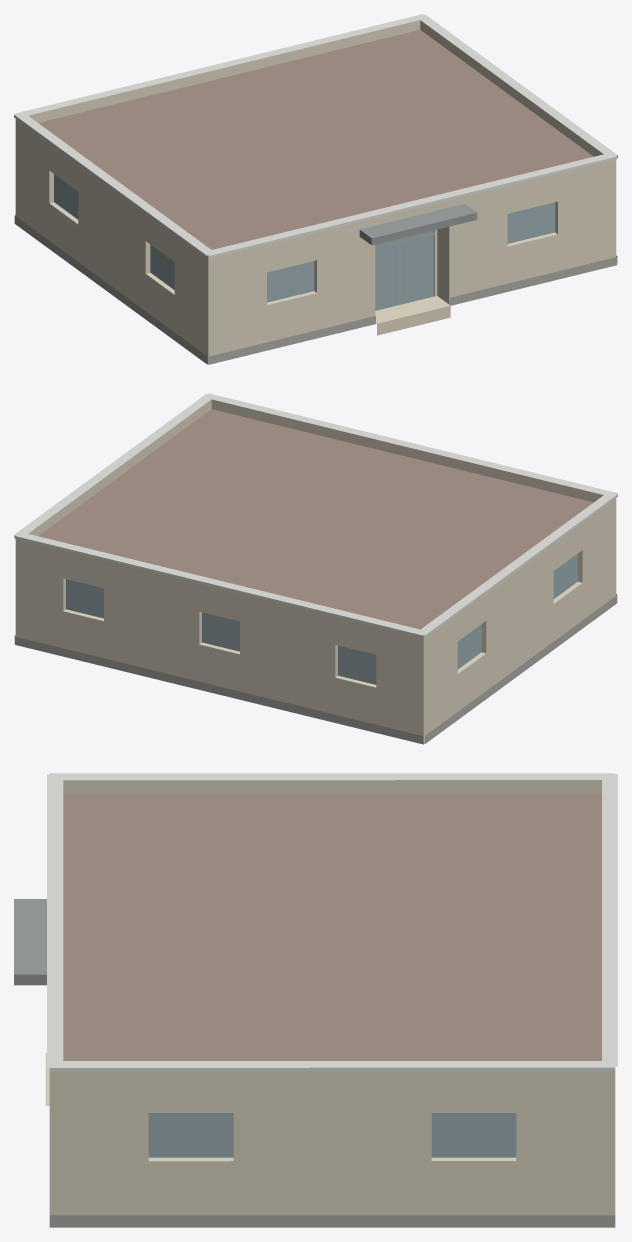
The picture shows the model from 3 angles, top to bottom: view 1: azimuth 30°, elevation 25°; view 2: azimuth 150°, elevation 25°; view 3: azimuth 270°, elevation 25°; orthographic projection. The views are drawn at different scales.
Parts seen in each view (by area): view 1: b115951747__roof, b115951747__wall, b115951747__trim, b115951747__parapet, b115951747__glass, b115951747__base, b115951747__canopy, b115951747__entranceThreshold_0; view 2: b115951747__roof, b115951747__wall, b115951747__trim, b115951747__parapet, b115951747__base, b115951747__glass; view 3: b115951747__roof, b115951747__wall, b115951747__trim, b115951747__parapet, b115951747__glass, b115951747__base, b115951747__canopy.
Boxes of the visible parts, x1,y1,x2,y2 form: b115951747__roof: (38, 30, 593, 364); b115951747__wall: (15, 124, 616, 364); b115951747__trim: (14, 14, 617, 258); b115951747__parapet: (15, 20, 616, 264); b115951747__glass: (54, 174, 555, 310); b115951747__base: (14, 214, 617, 364); b115951747__canopy: (359, 204, 477, 245); b115951747__entranceThreshold_0: (375, 296, 450, 335); b115951747__roof: (38, 409, 593, 744); b115951747__wall: (15, 504, 616, 743); b115951747__trim: (14, 393, 617, 638); b115951747__parapet: (15, 399, 616, 644); b115951747__base: (14, 594, 617, 744); b115951747__glass: (66, 553, 577, 684); b115951747__roof: (63, 794, 601, 1161); b115951747__wall: (49, 1081, 615, 1215); b115951747__trim: (47, 773, 617, 1071); b115951747__parapet: (49, 780, 615, 1080); b115951747__glass: (148, 1113, 516, 1157); b115951747__base: (49, 1215, 615, 1227); b115951747__canopy: (14, 899, 46, 985).
Bounding box in the file's own units: 15.58 × 4.35 × 13.5.
